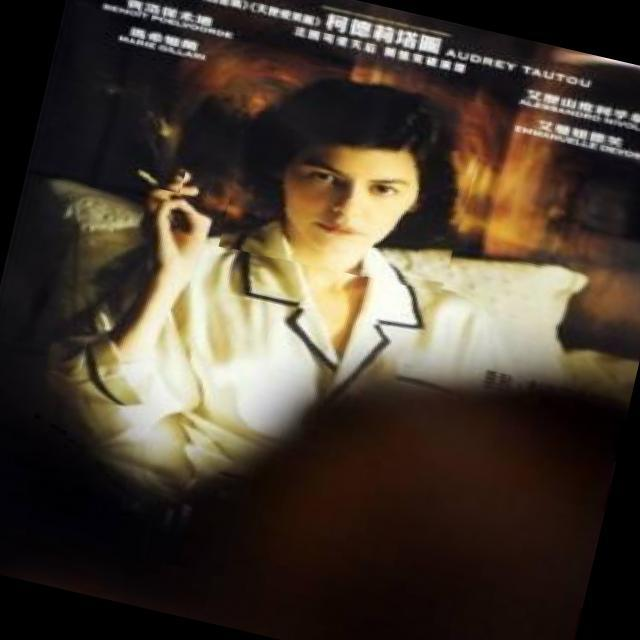cigarette: (114, 149, 186, 193)
